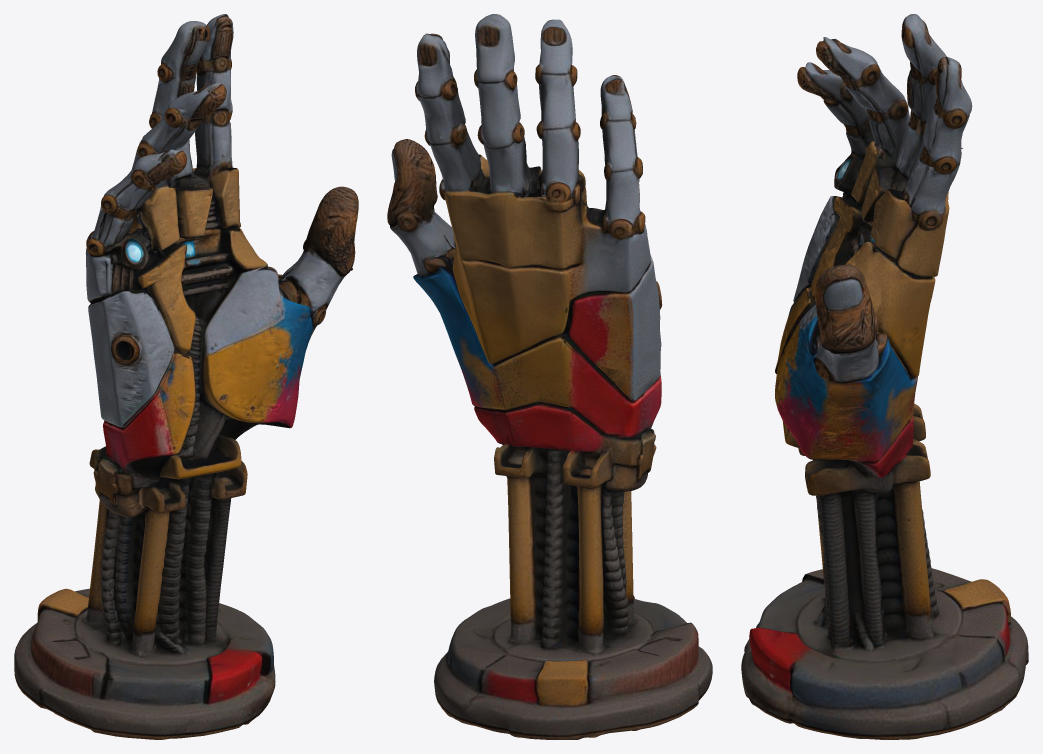
The model's file is robotic-hand.glb.
3 views of the same model, side by side, from view 1: azimuth 30°, elevation 25°; view 2: azimuth 150°, elevation 25°; view 3: azimuth 270°, elevation 25° (orthographic). The views are drawn at different scales.
Visible parts, largest first — view 1: tripo_node_4db3f717-bd31-4057-b8f6-d811010610b3; view 2: tripo_node_4db3f717-bd31-4057-b8f6-d811010610b3; view 3: tripo_node_4db3f717-bd31-4057-b8f6-d811010610b3.
Part boxes in pixels (x1,y1,x2,y2): tripo_node_4db3f717-bd31-4057-b8f6-d811010610b3: (14,14,358,739); tripo_node_4db3f717-bd31-4057-b8f6-d811010610b3: (387,14,712,739); tripo_node_4db3f717-bd31-4057-b8f6-d811010610b3: (741,14,1028,739).
Bounding box in the file's own units: 0.4839 × 0.9792 × 0.3653.
1 material, 1 textured.
